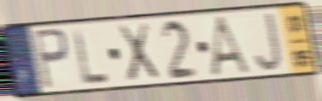2: (161, 17, 199, 81)
A: (209, 13, 256, 78)
J: (253, 11, 284, 74)
L: (71, 26, 111, 87)
P: (31, 26, 71, 92)
X: (115, 20, 162, 84)
